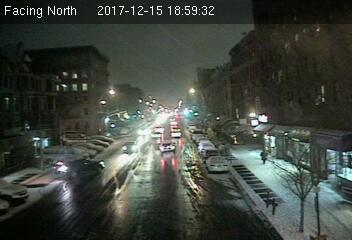car: (205, 156, 229, 172), (122, 140, 139, 155), (159, 139, 176, 153), (169, 130, 182, 138)
pedestrian: (258, 149, 271, 167)
